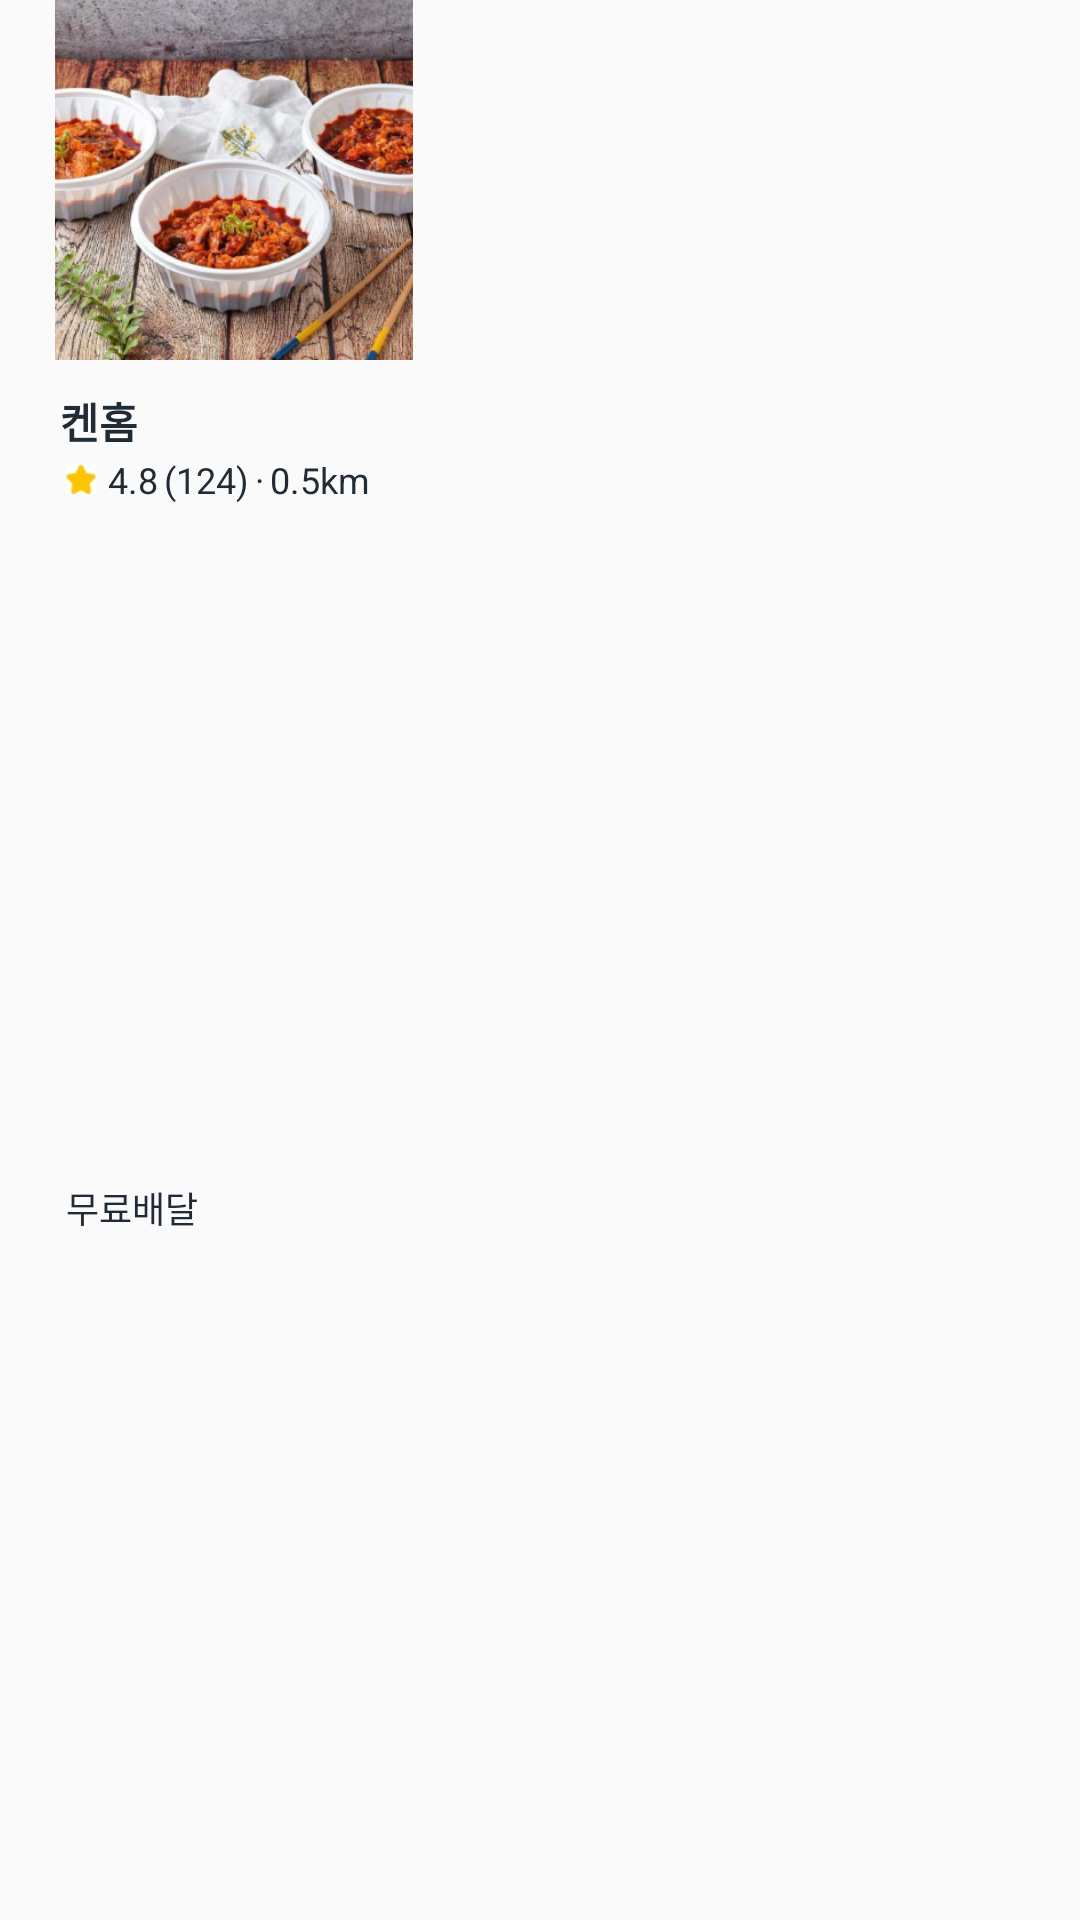

Named icons in this screenshot (1080x1920) and their centers, (x,y):
rating: (81,479)
